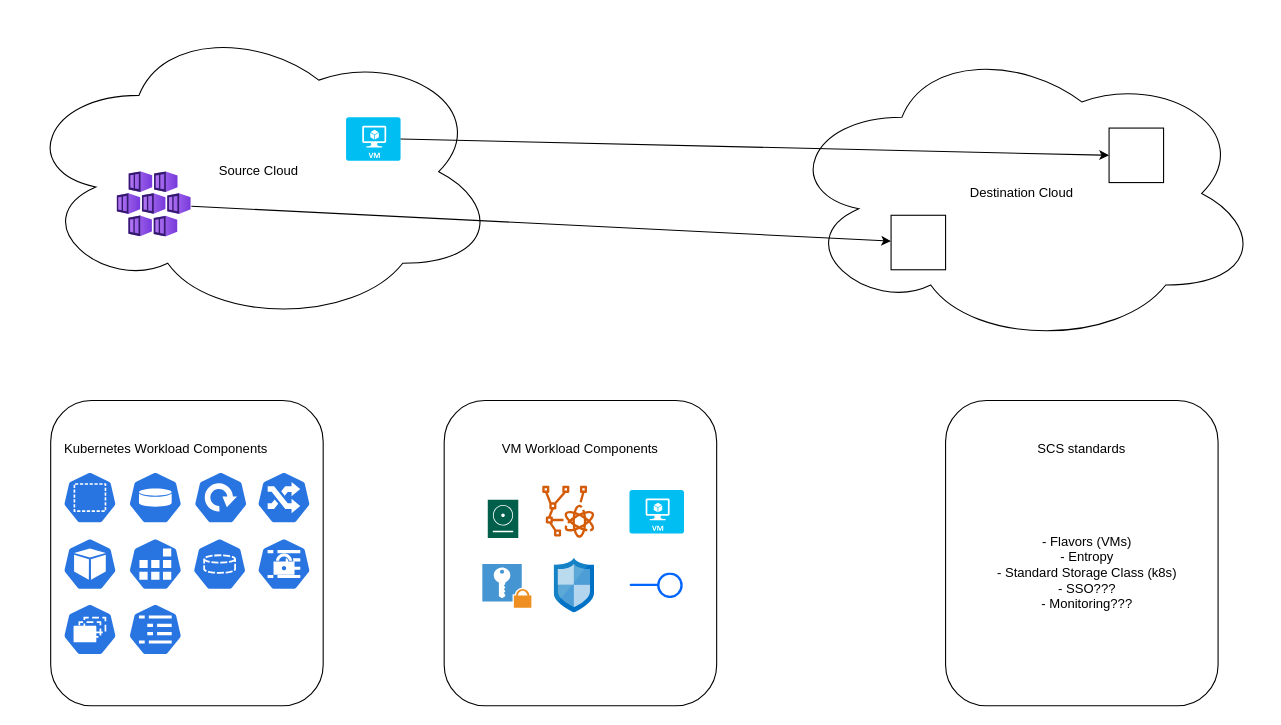
Image size: 1281x725. Some labels were removed from this diagram. The centre of each missing label's shape, as x and y in pixels:
K8S Workloads: pixel 154 204
VM: pixel 373 138
